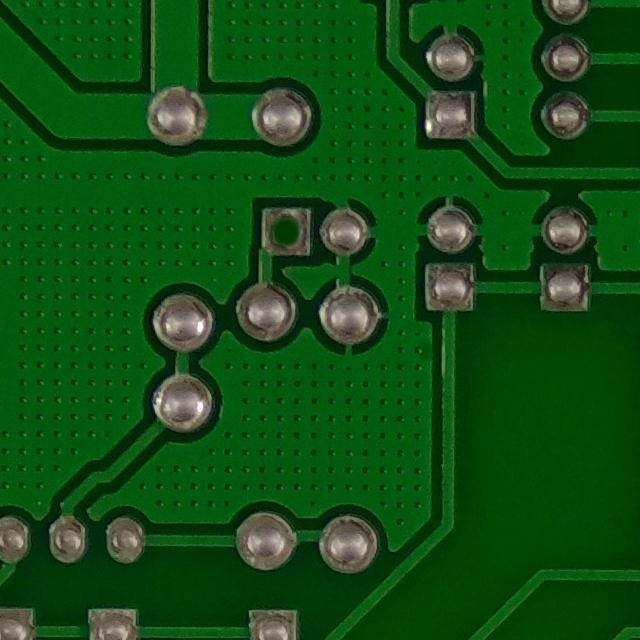missing_hole: (262, 209, 313, 256)
